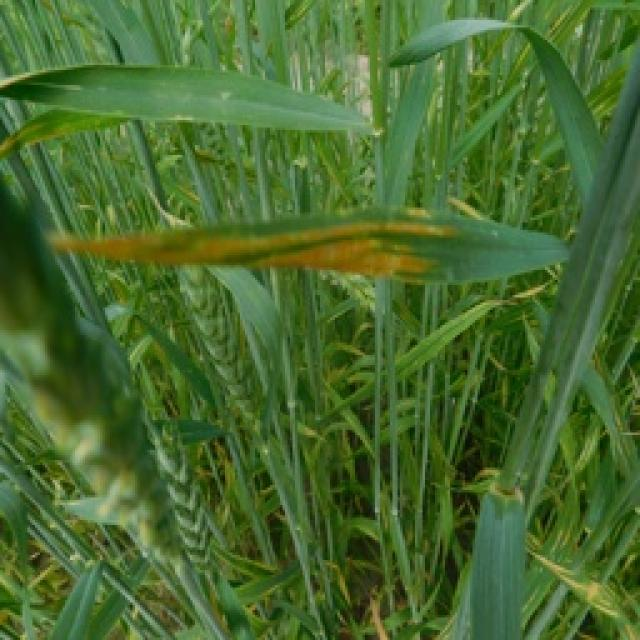Healthy Wheat: (0, 0, 638, 638)
Yellow Rust: (48, 208, 460, 280)
